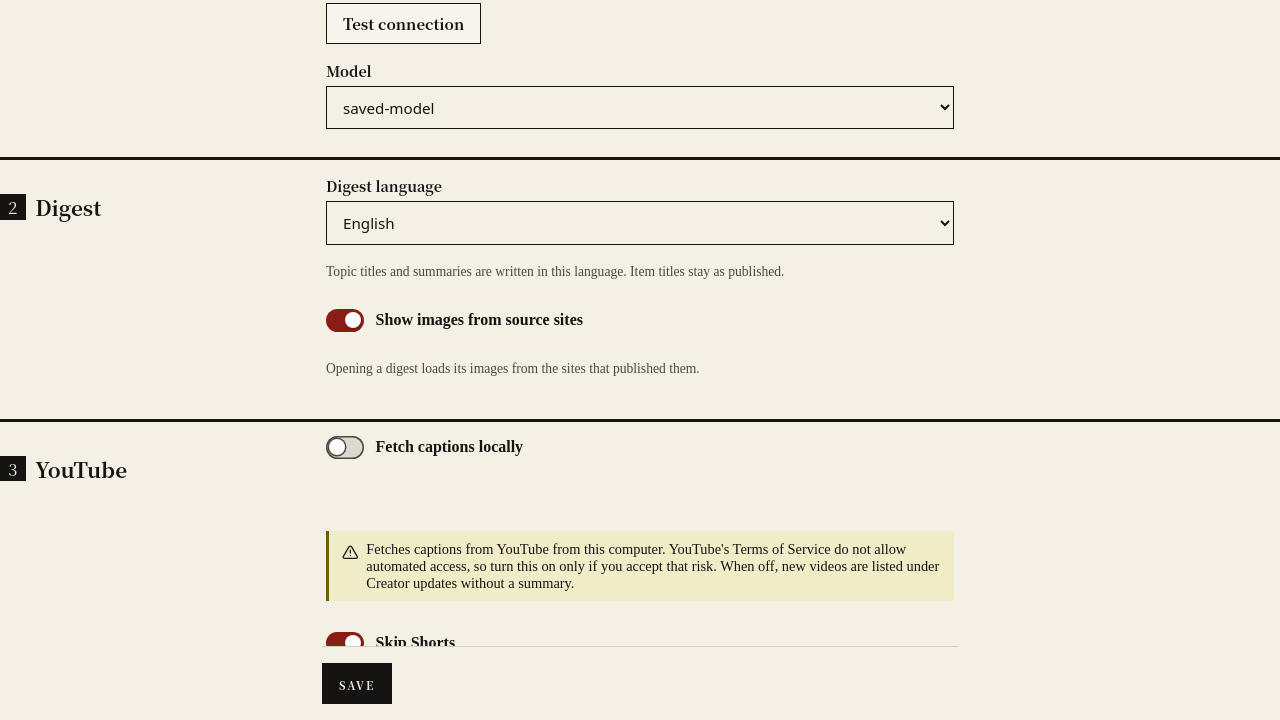
model settings › saves the image preference with the other digest preferences
(page scrolled)
Step 1. Click the switch labelled "Show images from source sites" → (454, 320), box x1=326 y1=309 x2=583 y2=332
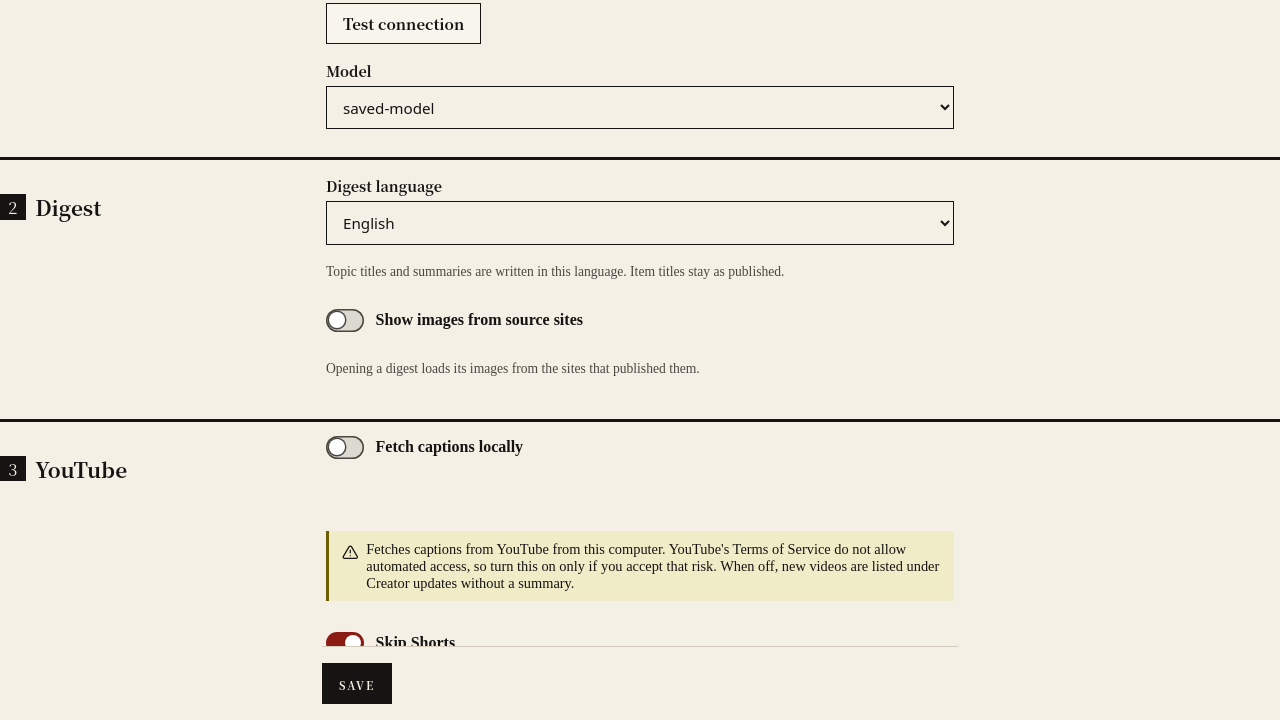
Step 2. Click the button "Save" → (357, 684), box x1=322 y1=663 x2=392 y2=704
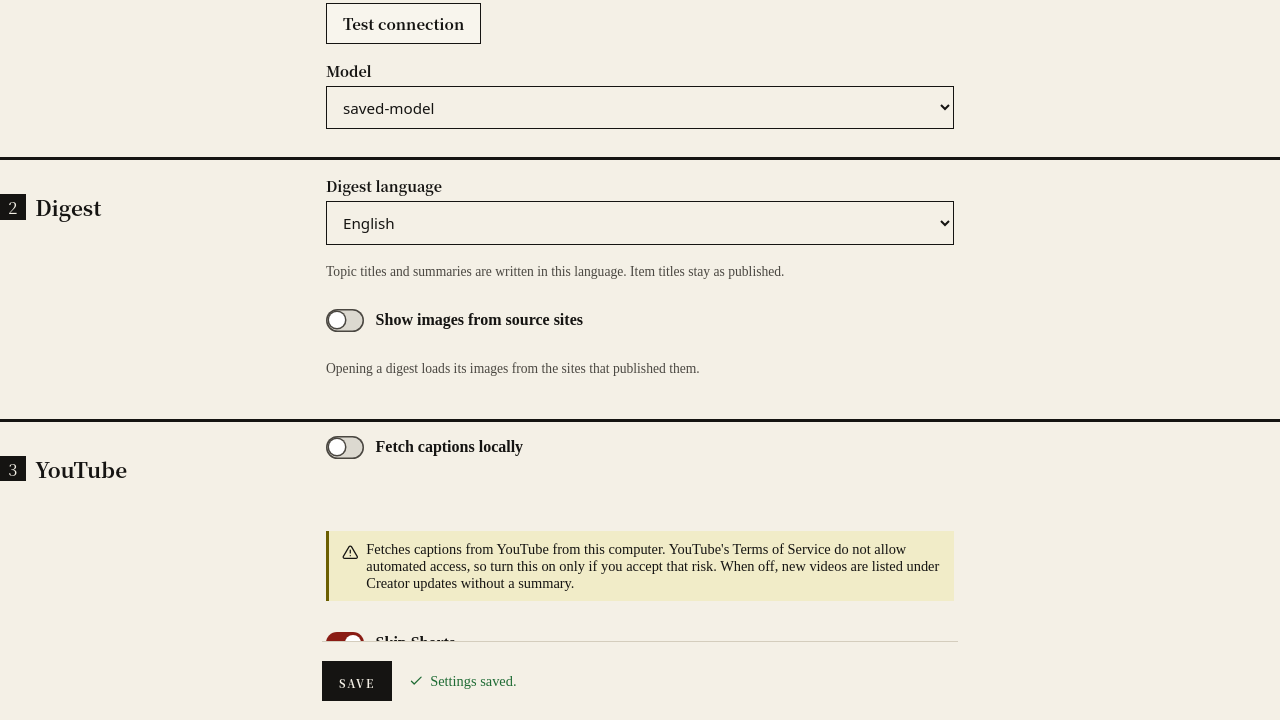
Result: the text "Settings saved." is shown at x1=408 y1=673 x2=517 y2=690
